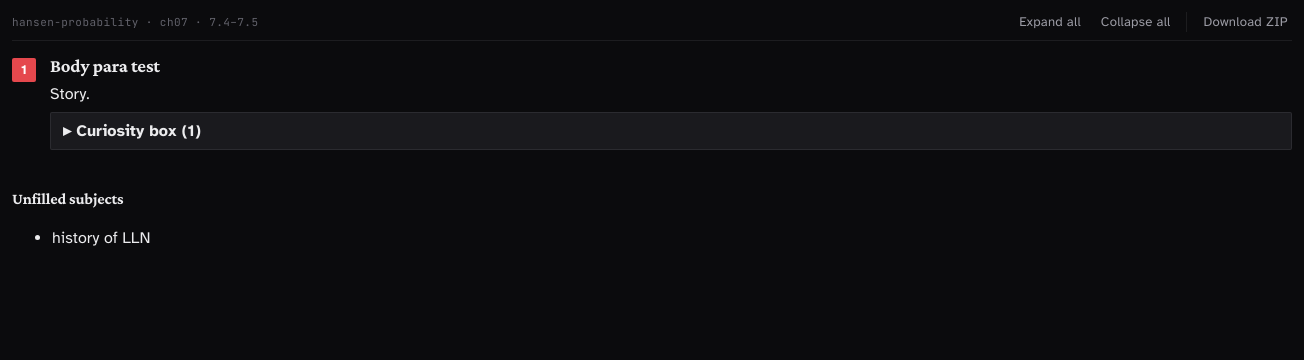
it: StoryDigestCard › curiosity body with \n\n renders as 2 paragraph elements, both justified
Click the button "▸ Curiosity box (1)".
click(129, 131)  # box [63, 121, 1279, 141]
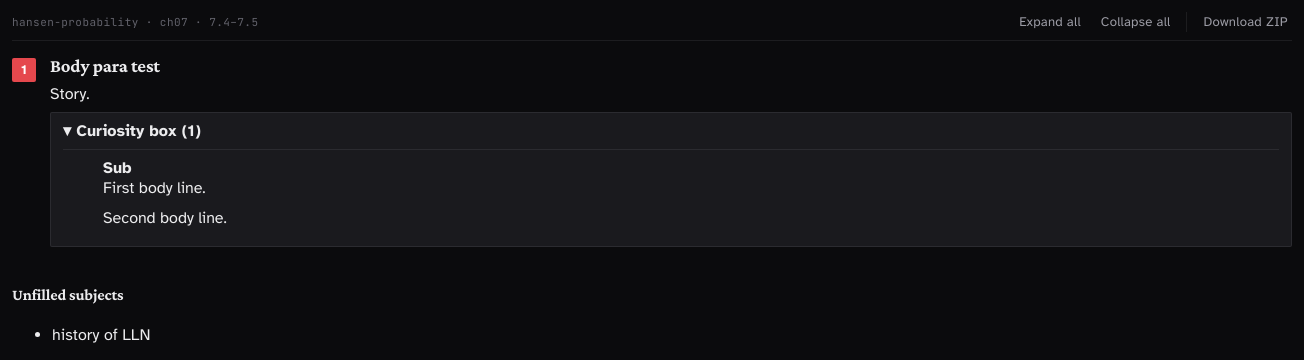
expect the number of elements with class "story-para" is 2: met, box [103, 178, 206, 198]; [103, 208, 227, 228]
